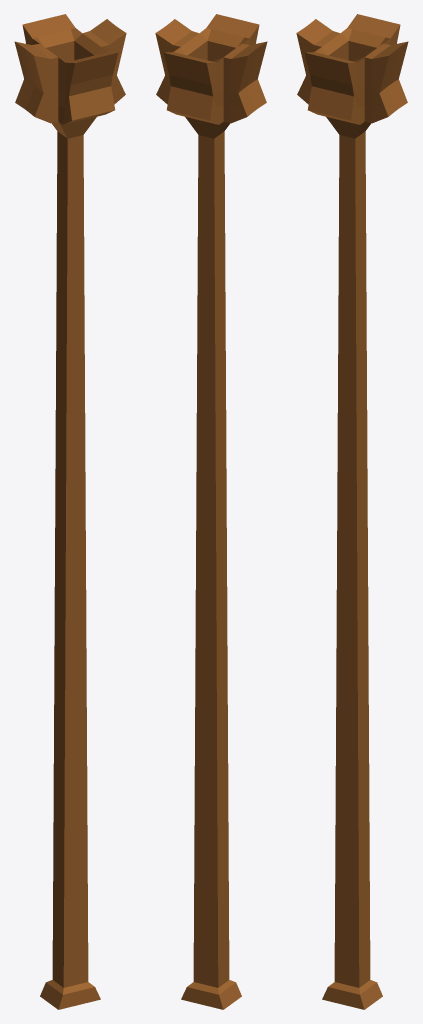
The model's file is torch.fbx.
3 renders of one model, left to right at view 1: azimuth 30°, elevation 25°; view 2: azimuth 150°, elevation 25°; view 3: azimuth 330°, elevation 25°, orthographic.
Parts seen in each view (by area): view 1: Cube; view 2: Cube; view 3: Cube.
Part boxes in pixels (box(x1,y1,x2,y2)): Cube: box(14, 14, 126, 1009); Cube: box(155, 14, 267, 1009); Cube: box(296, 14, 408, 1009).
Size of the model in its own units: 10.24 by 101 by 10.1.
